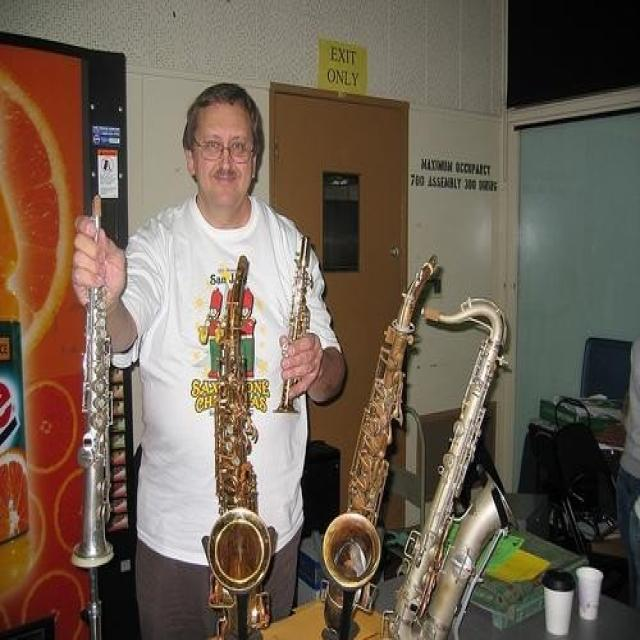saxophone: (310, 248, 440, 640), (396, 279, 519, 640), (188, 248, 274, 640)
